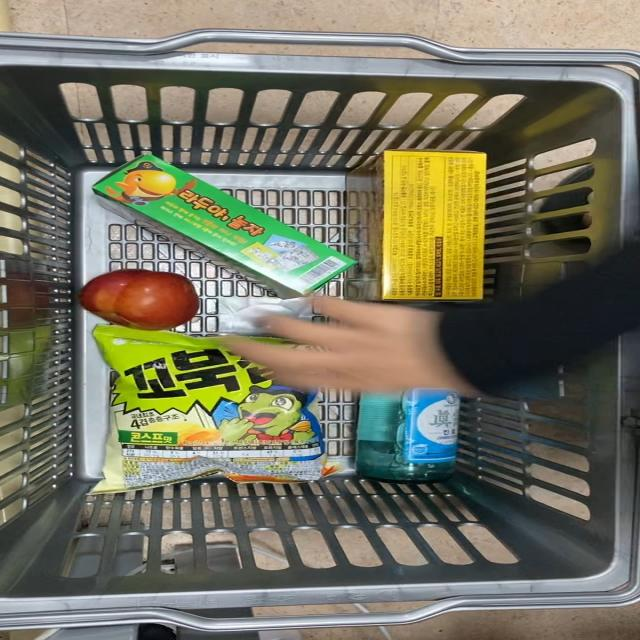ggobukchip: (84, 332, 328, 486), (90, 147, 347, 286)
jinro: (353, 394, 462, 481)
minicrab: (339, 150, 517, 299)
plum: (78, 260, 202, 332)
